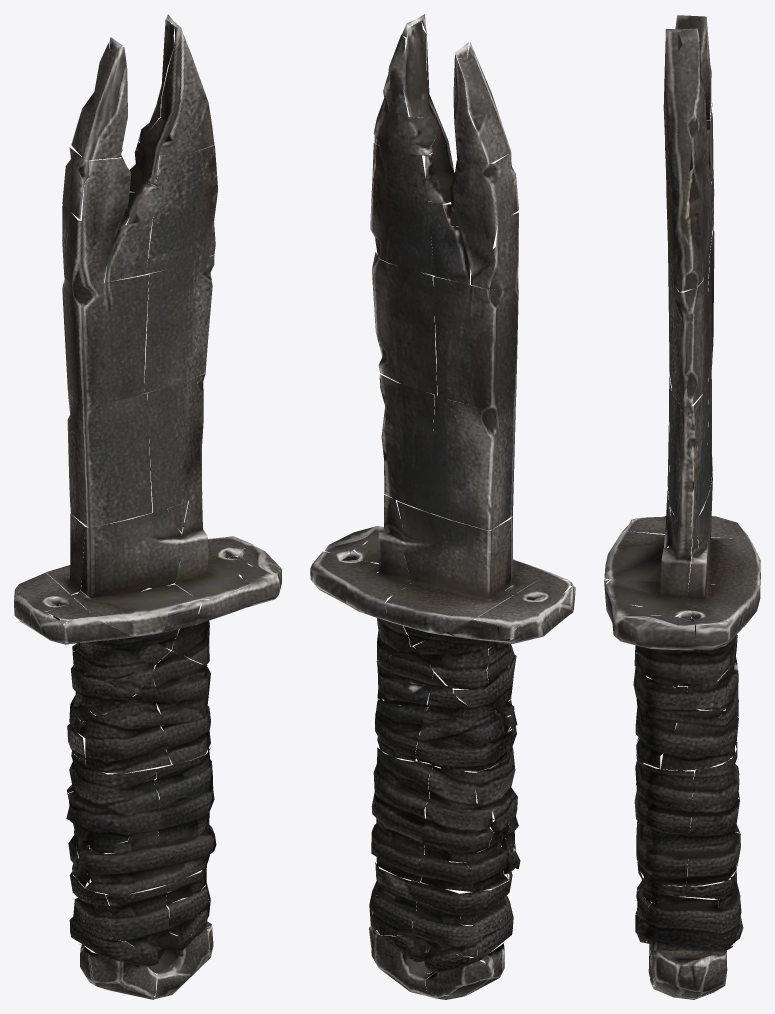
Rendered from w_ryu_shiv.glb.
3 views of the same model, side by side, from view 1: azimuth 30°, elevation 25°; view 2: azimuth 150°, elevation 25°; view 3: azimuth 270°, elevation 25° (orthographic).
Parts seen in each view (by area): view 1: tripo_node_50e54c1f-63ac-4bd1-8d1f-93ce150daeae; view 2: tripo_node_50e54c1f-63ac-4bd1-8d1f-93ce150daeae; view 3: tripo_node_50e54c1f-63ac-4bd1-8d1f-93ce150daeae.
Boxes of the visible parts, x1=… form: tripo_node_50e54c1f-63ac-4bd1-8d1f-93ce150daeae: x1=14, y1=14, x2=281, y2=999; tripo_node_50e54c1f-63ac-4bd1-8d1f-93ce150daeae: x1=310, y1=14, x2=575, y2=999; tripo_node_50e54c1f-63ac-4bd1-8d1f-93ce150daeae: x1=604, y1=15, x2=760, y2=999.
Bounding box in the file's own units: 0.1071 × 0.42 × 0.0615.
1 material, 1 textured.
